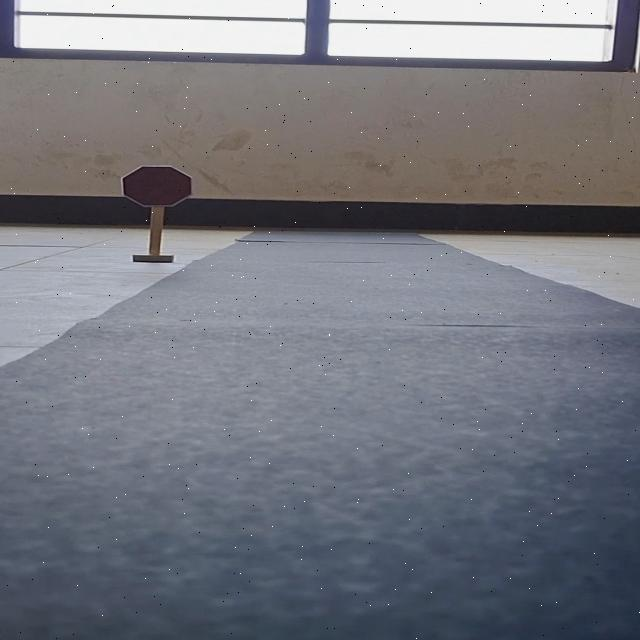Stop: (121, 166, 193, 206)
